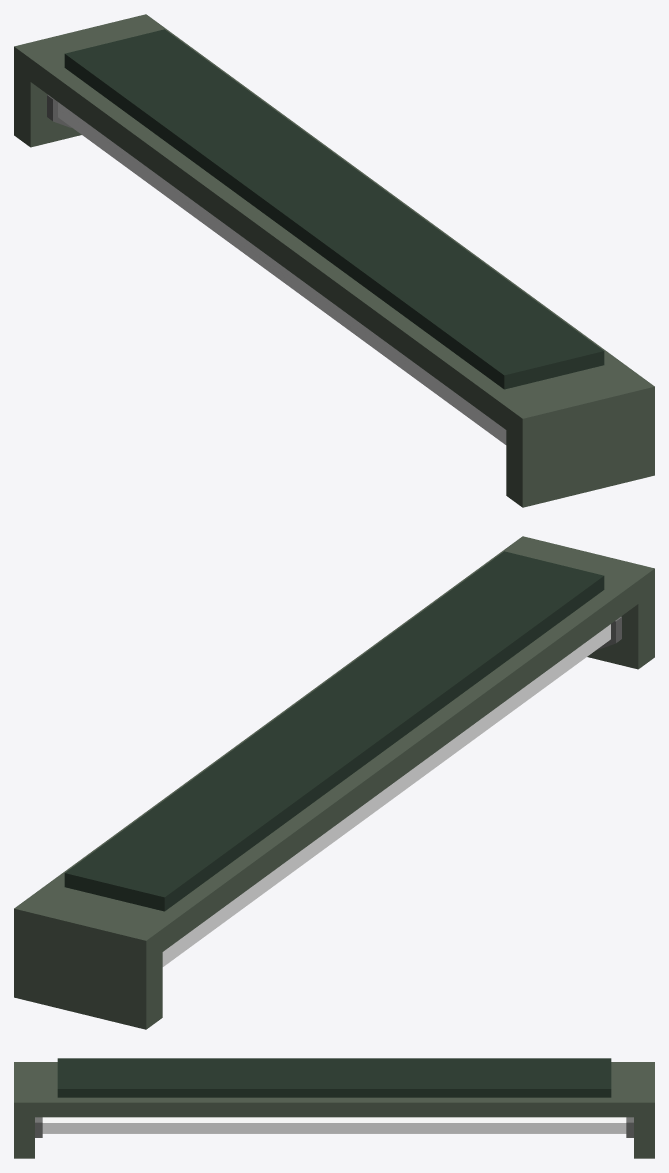
The model's file is SM_Lamp_01.glb.
The picture shows the model from 3 angles, top to bottom: view 1: azimuth 30°, elevation 25°; view 2: azimuth 150°, elevation 25°; view 3: azimuth 270°, elevation 25°; orthographic projection. The views are drawn at different scales.
Parts seen in each view (by area): view 1: SM_Lamp_01; view 2: SM_Lamp_01; view 3: SM_Lamp_01.
Part boxes in pixels (x1,y1,x2,y2): SM_Lamp_01: (14, 14, 654, 507); SM_Lamp_01: (14, 536, 654, 1029); SM_Lamp_01: (14, 1058, 654, 1158).
Size of the model in its own units: 0.344 by 0.2563 by 2.29.
Materials: 1 (1 with a texture image).
